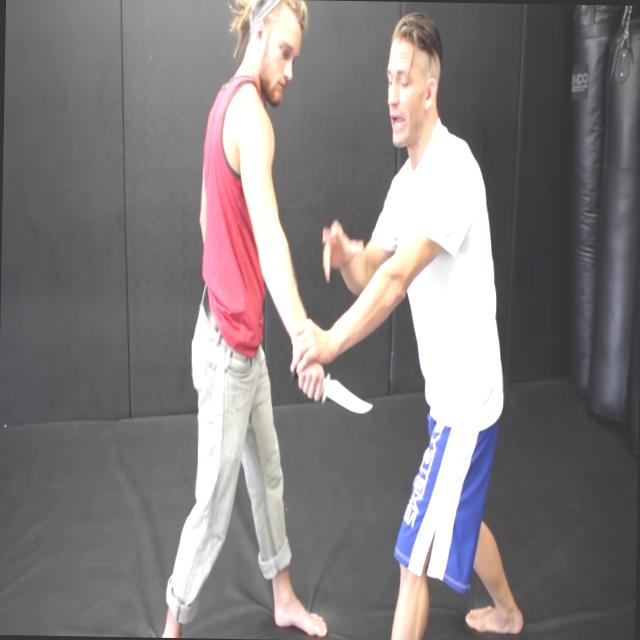knife: (287, 362, 375, 424)
